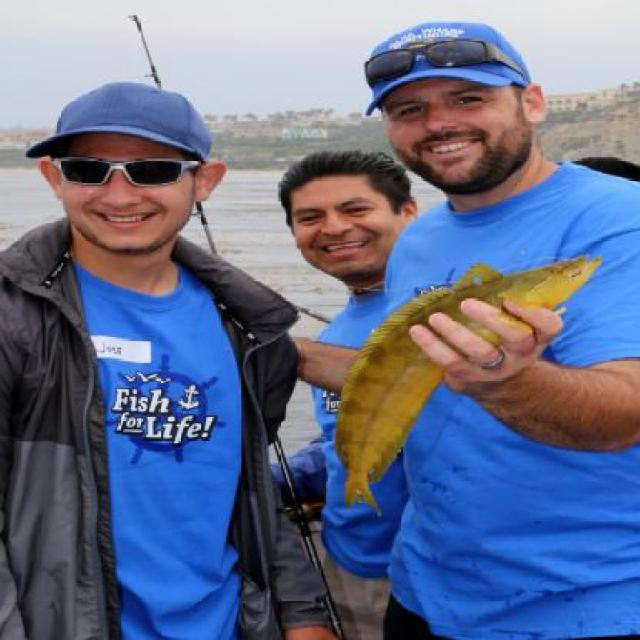Person: (281, 16, 639, 639), (0, 80, 338, 639), (256, 150, 430, 636)
